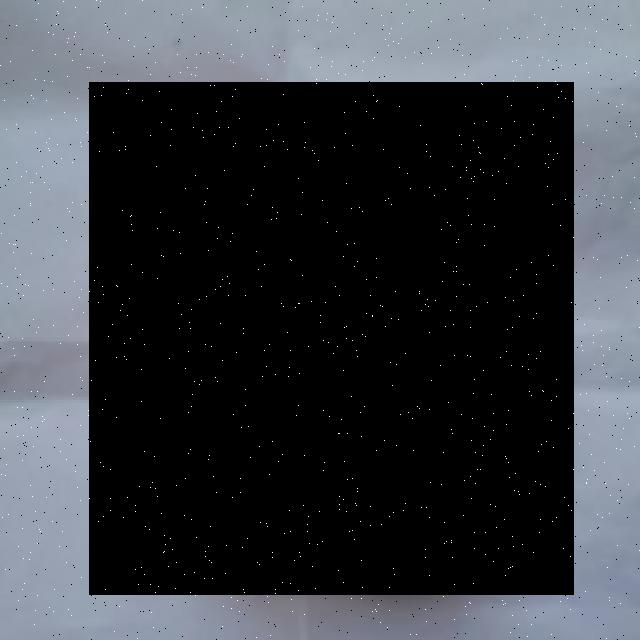Capsicum: (90, 83, 575, 596)
